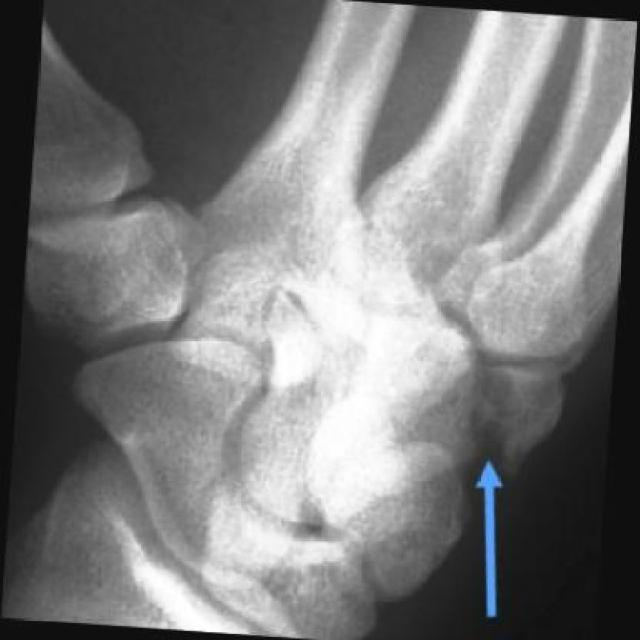Fracture: (451, 360, 531, 494)
